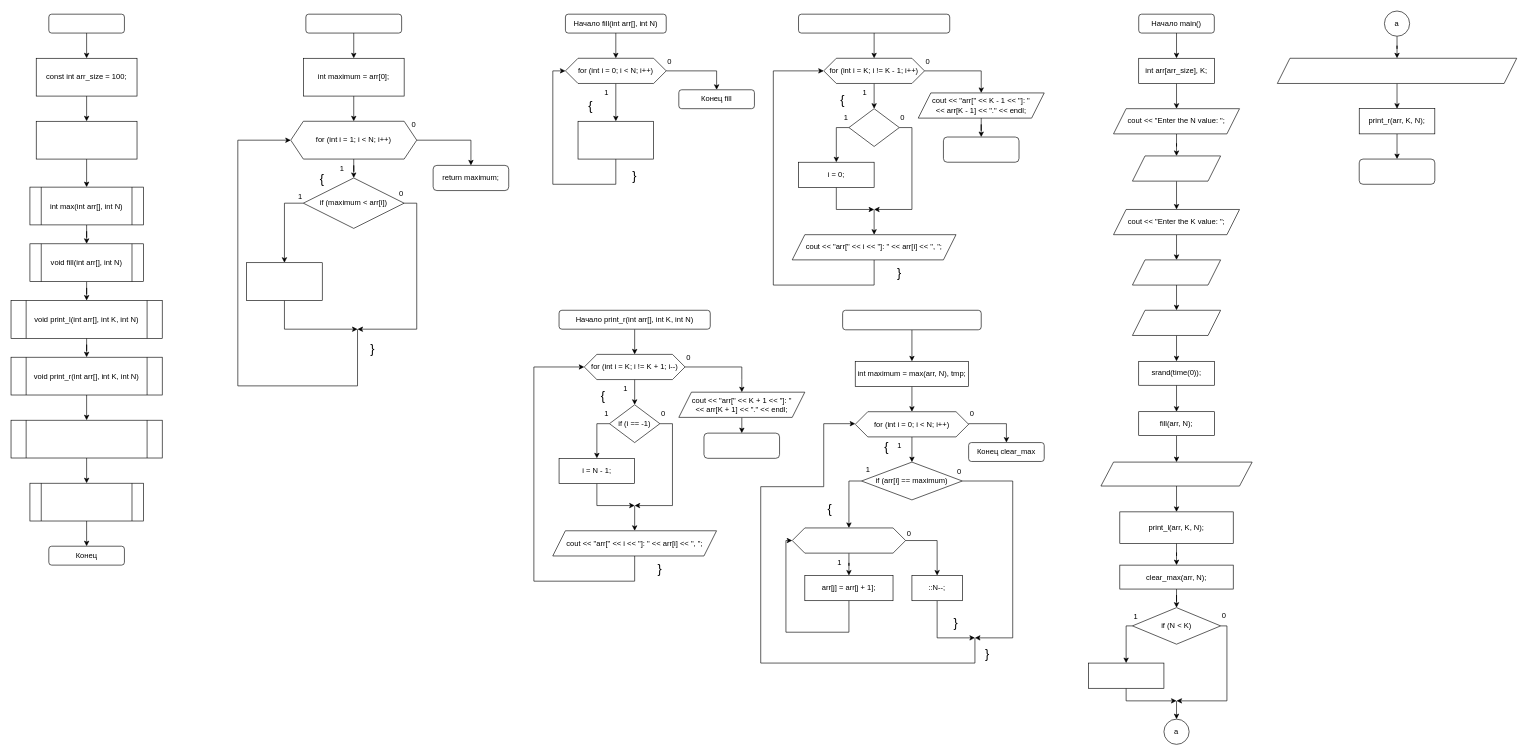
Image size: 1528x755. Some labels were removed from this diagram. Here are the shapes that lost their labels. From the top down, the centre of each, then its label:
pixel 86 23: Начало
pixel 353 23: Начало max(int arr[], int N)
pixel 874 23: Начало print_l(int arr[], int K, int N)
pixel 1397 70: cout << endl << "Array state after max values removal:" << endl;
pixel 86 140: int N;
pixel 615 140: arr[i] = rand() % 101;
pixel 873 127: if (i == N)
pixel 981 149: Конец print_l
pixel 1176 168: cin >> N;
pixel 1397 171: return 0;
pixel 284 281: maximum = arr[i];
pixel 1176 272: cin >> K;
pixel 911 320: Начало clear_max(int arr[], int N)
pixel 1176 322: cout << endl;
pixel 86 439: void clear_max(int arr[], int N)
pixel 741 445: Конец print_r
pixel 1176 473: cout << "Current array state:" << endl;
pixel 86 502: int main()
pixel 849 540: for (int j = i; j < N - 1; j++)
pixel 1126 675: K = N;
